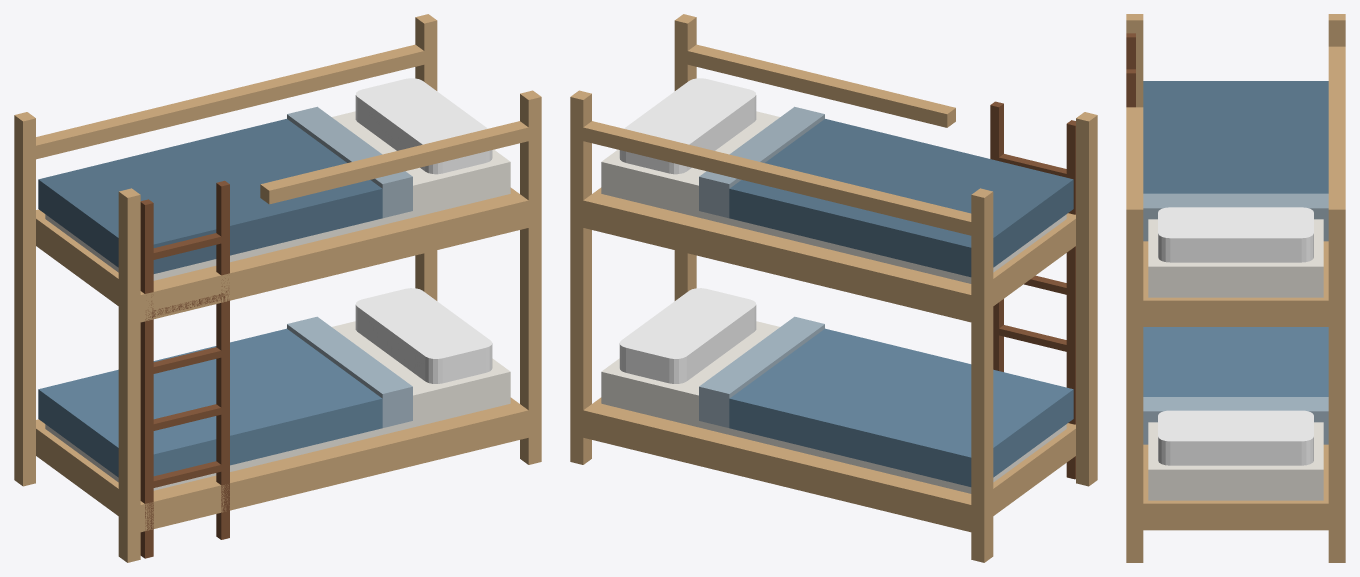
File: bunk_bed.glb
3 views of the same model, side by side, from view 1: azimuth 30°, elevation 25°; view 2: azimuth 150°, elevation 25°; view 3: azimuth 270°, elevation 25° (orthographic). The views are drawn at different scales.
Visible parts, largest first — view 1: bunk_bed_Body; view 2: bunk_bed_Body; view 3: bunk_bed_Body.
Boxes of the visible parts, box(x1,y1,x2,y2) form: bunk_bed_Body: box(14, 14, 541, 562); bunk_bed_Body: box(570, 14, 1097, 562); bunk_bed_Body: box(1126, 14, 1345, 562).
Bounding box in the file's own units: 1.9 × 1.6 × 0.9.
